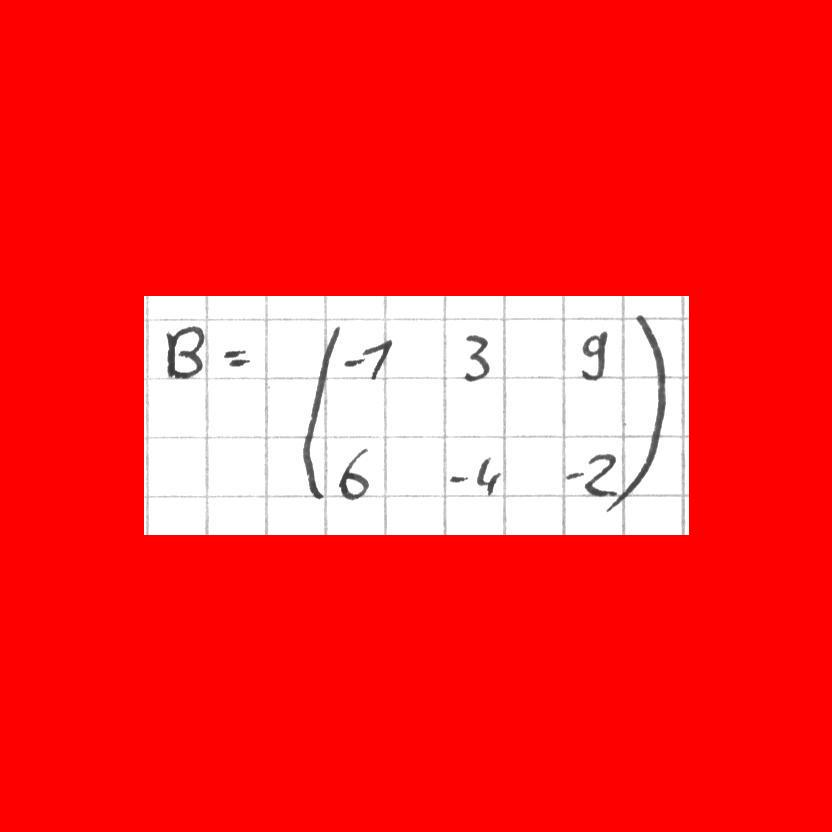Char: (623, 301, 672, 514), (300, 346, 330, 502), (163, 322, 205, 379), (344, 336, 397, 379), (332, 445, 373, 499), (576, 326, 610, 384), (584, 449, 619, 498), (461, 330, 491, 384), (474, 453, 503, 499), (222, 344, 251, 369), (446, 469, 470, 487), (566, 468, 584, 481)
